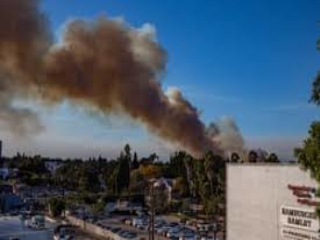smoke: (13, 19, 248, 160)
